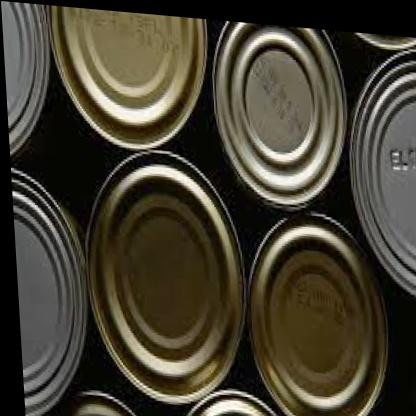Metal: (3, 7, 416, 416)
